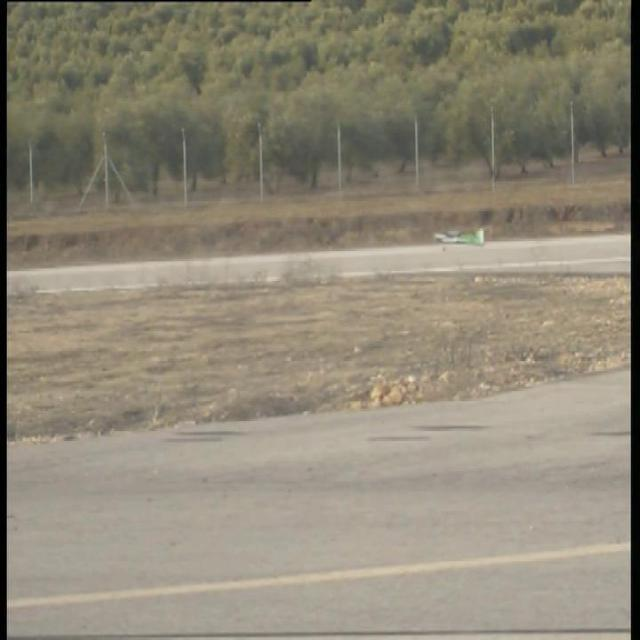drone: (423, 223, 493, 251)
